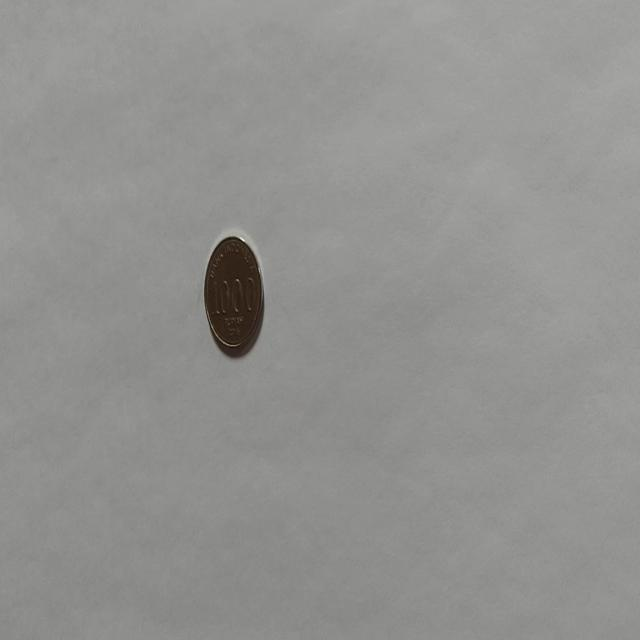seribu rupiah koin: (202, 232, 264, 356)
